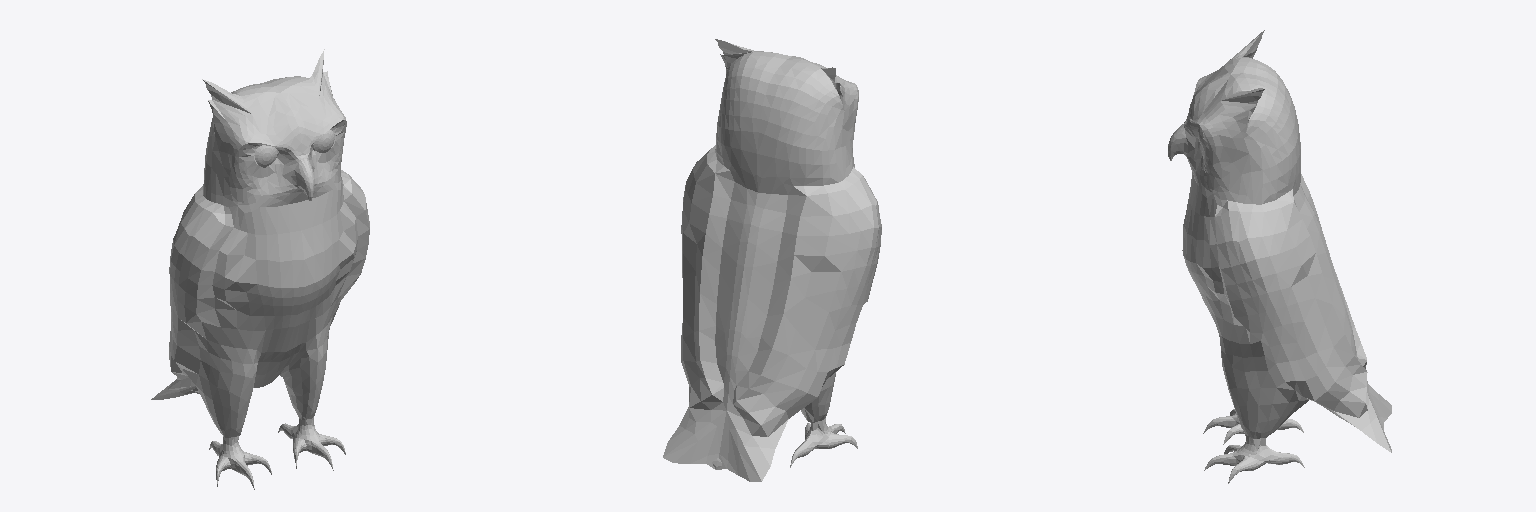
File: OWL.OBJ
3 views of the same model, side by side, from view 1: azimuth 30°, elevation 25°; view 2: azimuth 150°, elevation 25°; view 3: azimuth 270°, elevation 25° (orthographic).
Visible parts, largest first — view 1: owl_body; view 2: owl_body; view 3: owl_body.
Boxes of the visible parts, x1,y1,x2,y2 form: owl_body: [151, 49, 369, 489]; owl_body: [663, 39, 881, 481]; owl_body: [1168, 30, 1391, 483].
Bounding box in the file's own units: 0.2398 × 0.4788 × 0.2469.